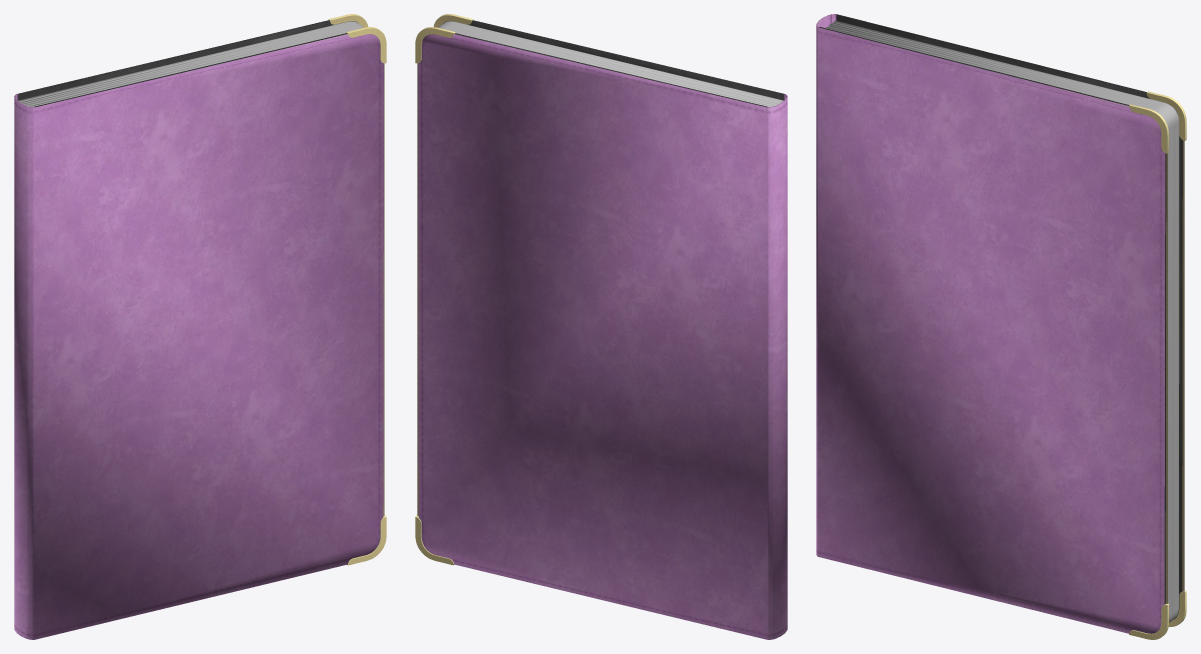
File: tonkiy_pereplet.glb
3 views of the same model, side by side, from view 1: azimuth 30°, elevation 25°; view 2: azimuth 150°, elevation 25°; view 3: azimuth 330°, elevation 25° (orthographic).
Parts seen in each view (by area): view 1: Cube.002; view 2: Cube.002; view 3: Cube.002.
Part boxes in pixels (x1=…): Cube.002: x1=14, y1=14, x2=386, y2=639; Cube.002: x1=415, y1=14, x2=787, y2=639; Cube.002: x1=816, y1=14, x2=1186, y2=639.
Size of the model in its own units: 1.3 by 1.86 by 0.1236.
Materials: 1 (1 with a texture image).
